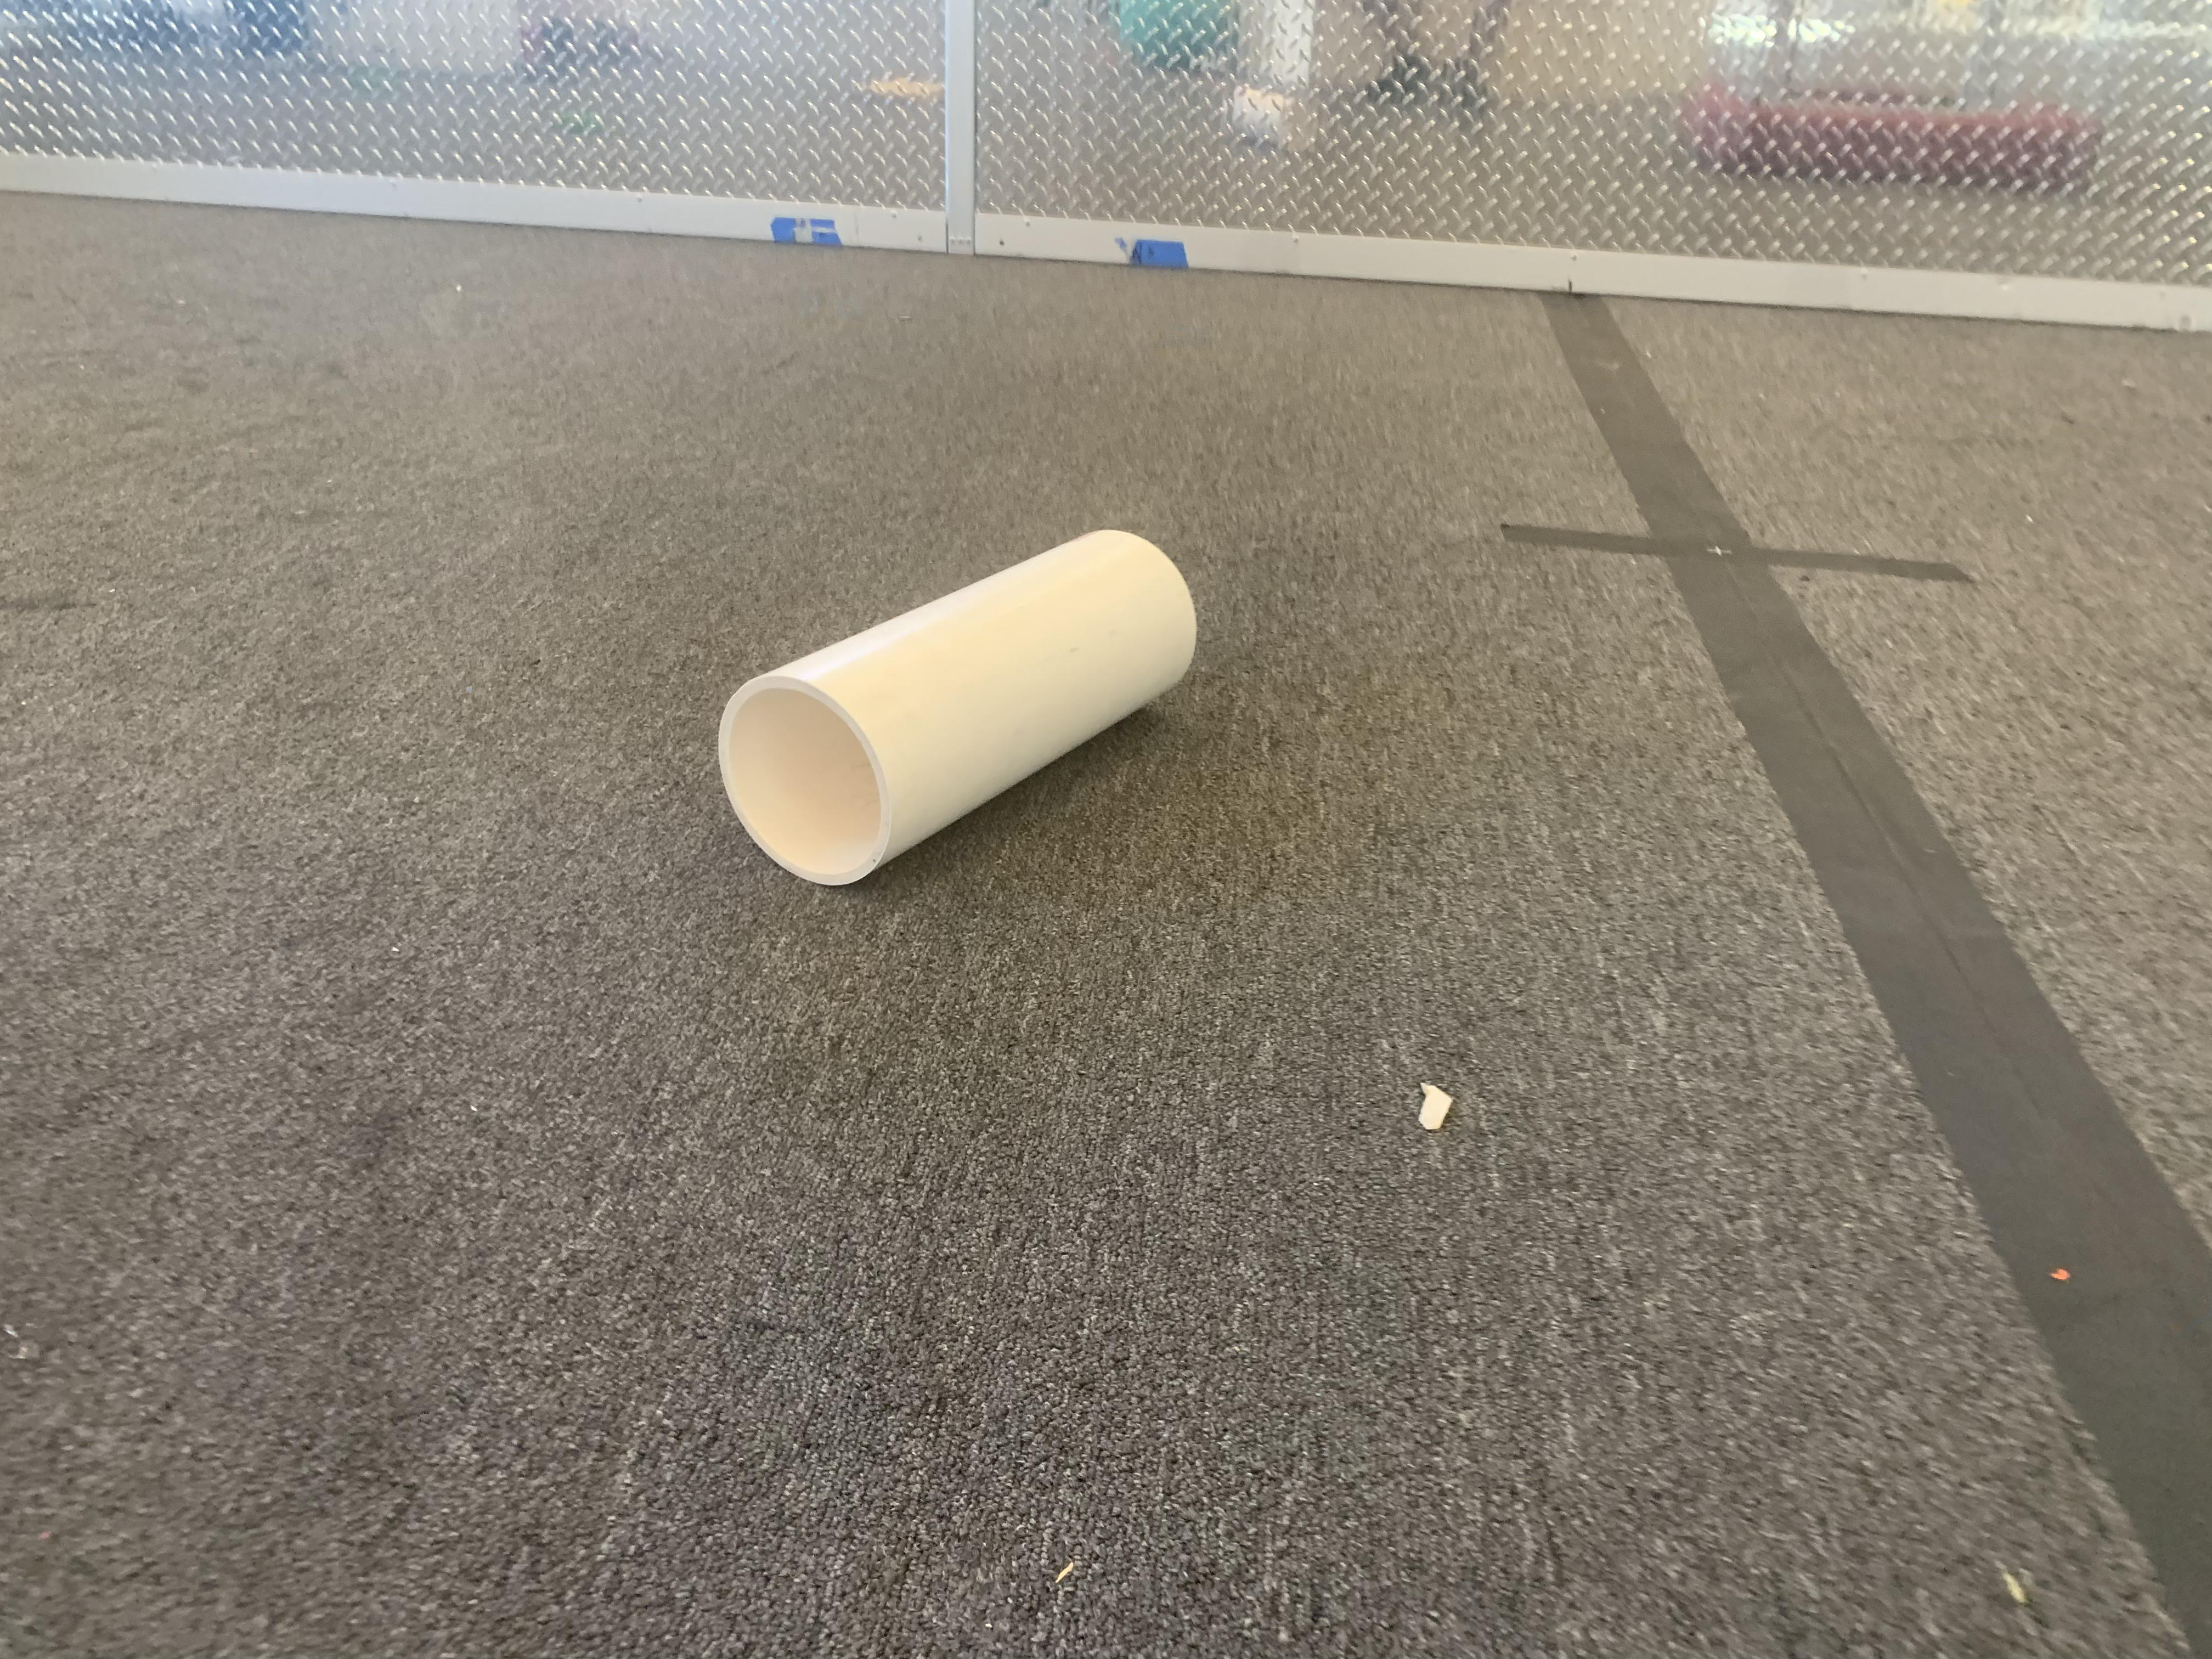coral: (712, 523, 1200, 889)
